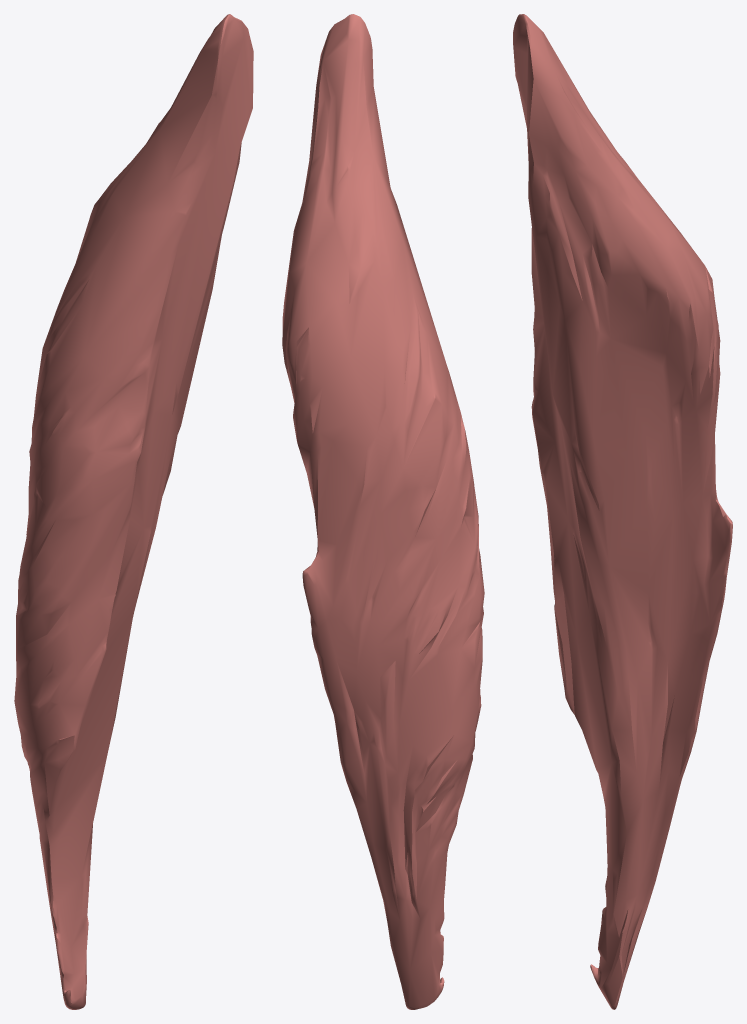
The model's file is fma37697_fj1477.glb.
The picture shows the model from 3 angles, left to right: view 1: azimuth 30°, elevation 25°; view 2: azimuth 150°, elevation 25°; view 3: azimuth 270°, elevation 25°; orthographic projection. The views are drawn at different scales.
Visible parts, largest first — view 1: FMA37697_FJ1477; view 2: FMA37697_FJ1477; view 3: FMA37697_FJ1477.
Part boxes in pixels (bbox=[...]): FMA37697_FJ1477: bbox=[14, 14, 253, 1009]; FMA37697_FJ1477: bbox=[282, 14, 484, 1009]; FMA37697_FJ1477: bbox=[513, 14, 732, 1009].
Size of the model in its own units: 0.0535 by 0.2562 by 0.0487.
